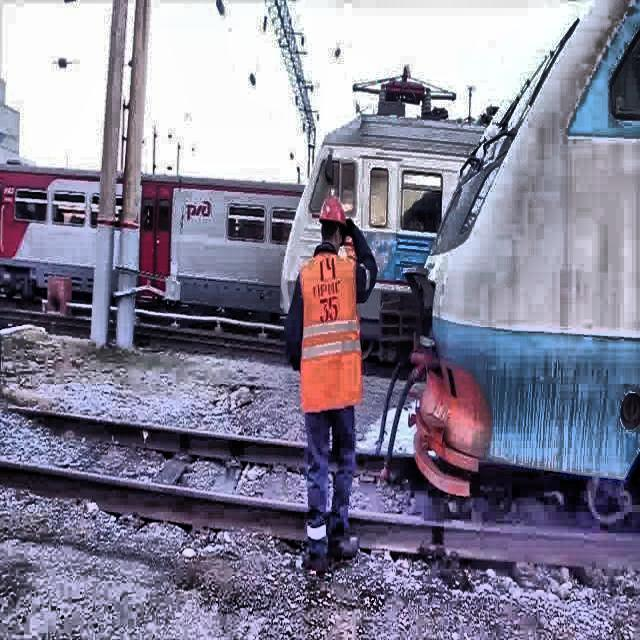safety_helmet: (316, 193, 349, 227)
safety_jacket: (299, 250, 363, 414)
